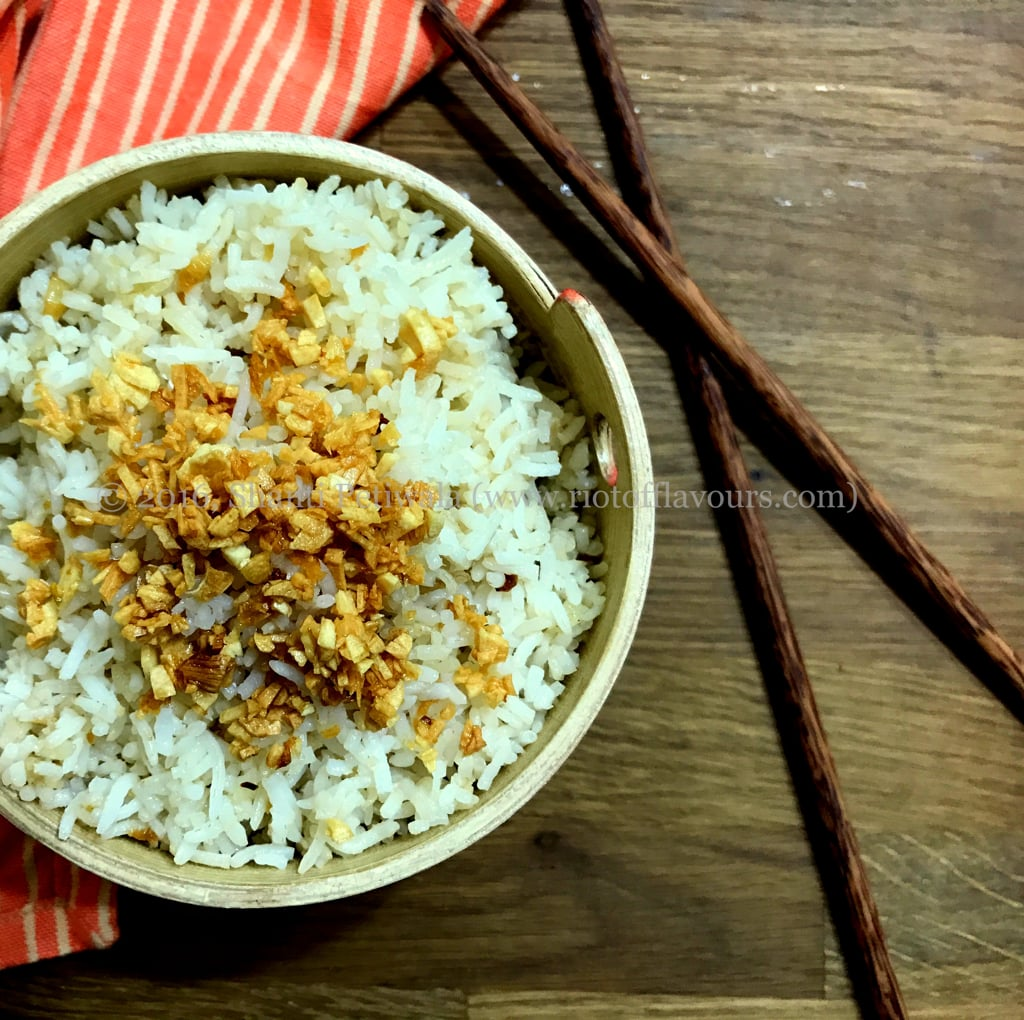plain rice: (22, 653, 465, 830), (173, 215, 481, 356)
